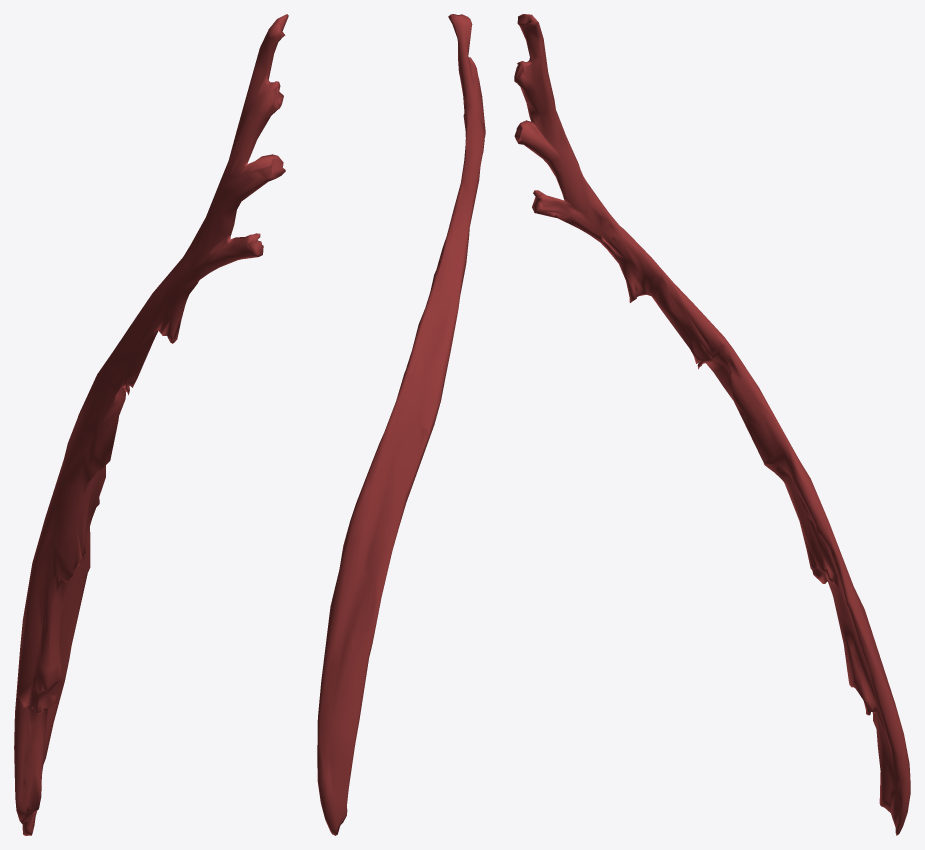
File: longissimus-colli-muscle-r.glb
The picture shows the model from 3 angles, left to right: view 1: azimuth 30°, elevation 25°; view 2: azimuth 150°, elevation 25°; view 3: azimuth 270°, elevation 25°; orthographic projection. The views are drawn at different scales.
Parts seen in each view (by area): view 1: Longissimus colli muscle.r; view 2: Longissimus colli muscle.r; view 3: Longissimus colli muscle.r.
Part boxes in pixels (left/top/right/bottom): Longissimus colli muscle.r: left=14, top=14, right=288, bottom=835; Longissimus colli muscle.r: left=317, top=14, right=485, bottom=835; Longissimus colli muscle.r: left=514, top=14, right=910, bottom=835.
Bounding box in the file's own units: 0.0191 × 0.1894 × 0.0812.
